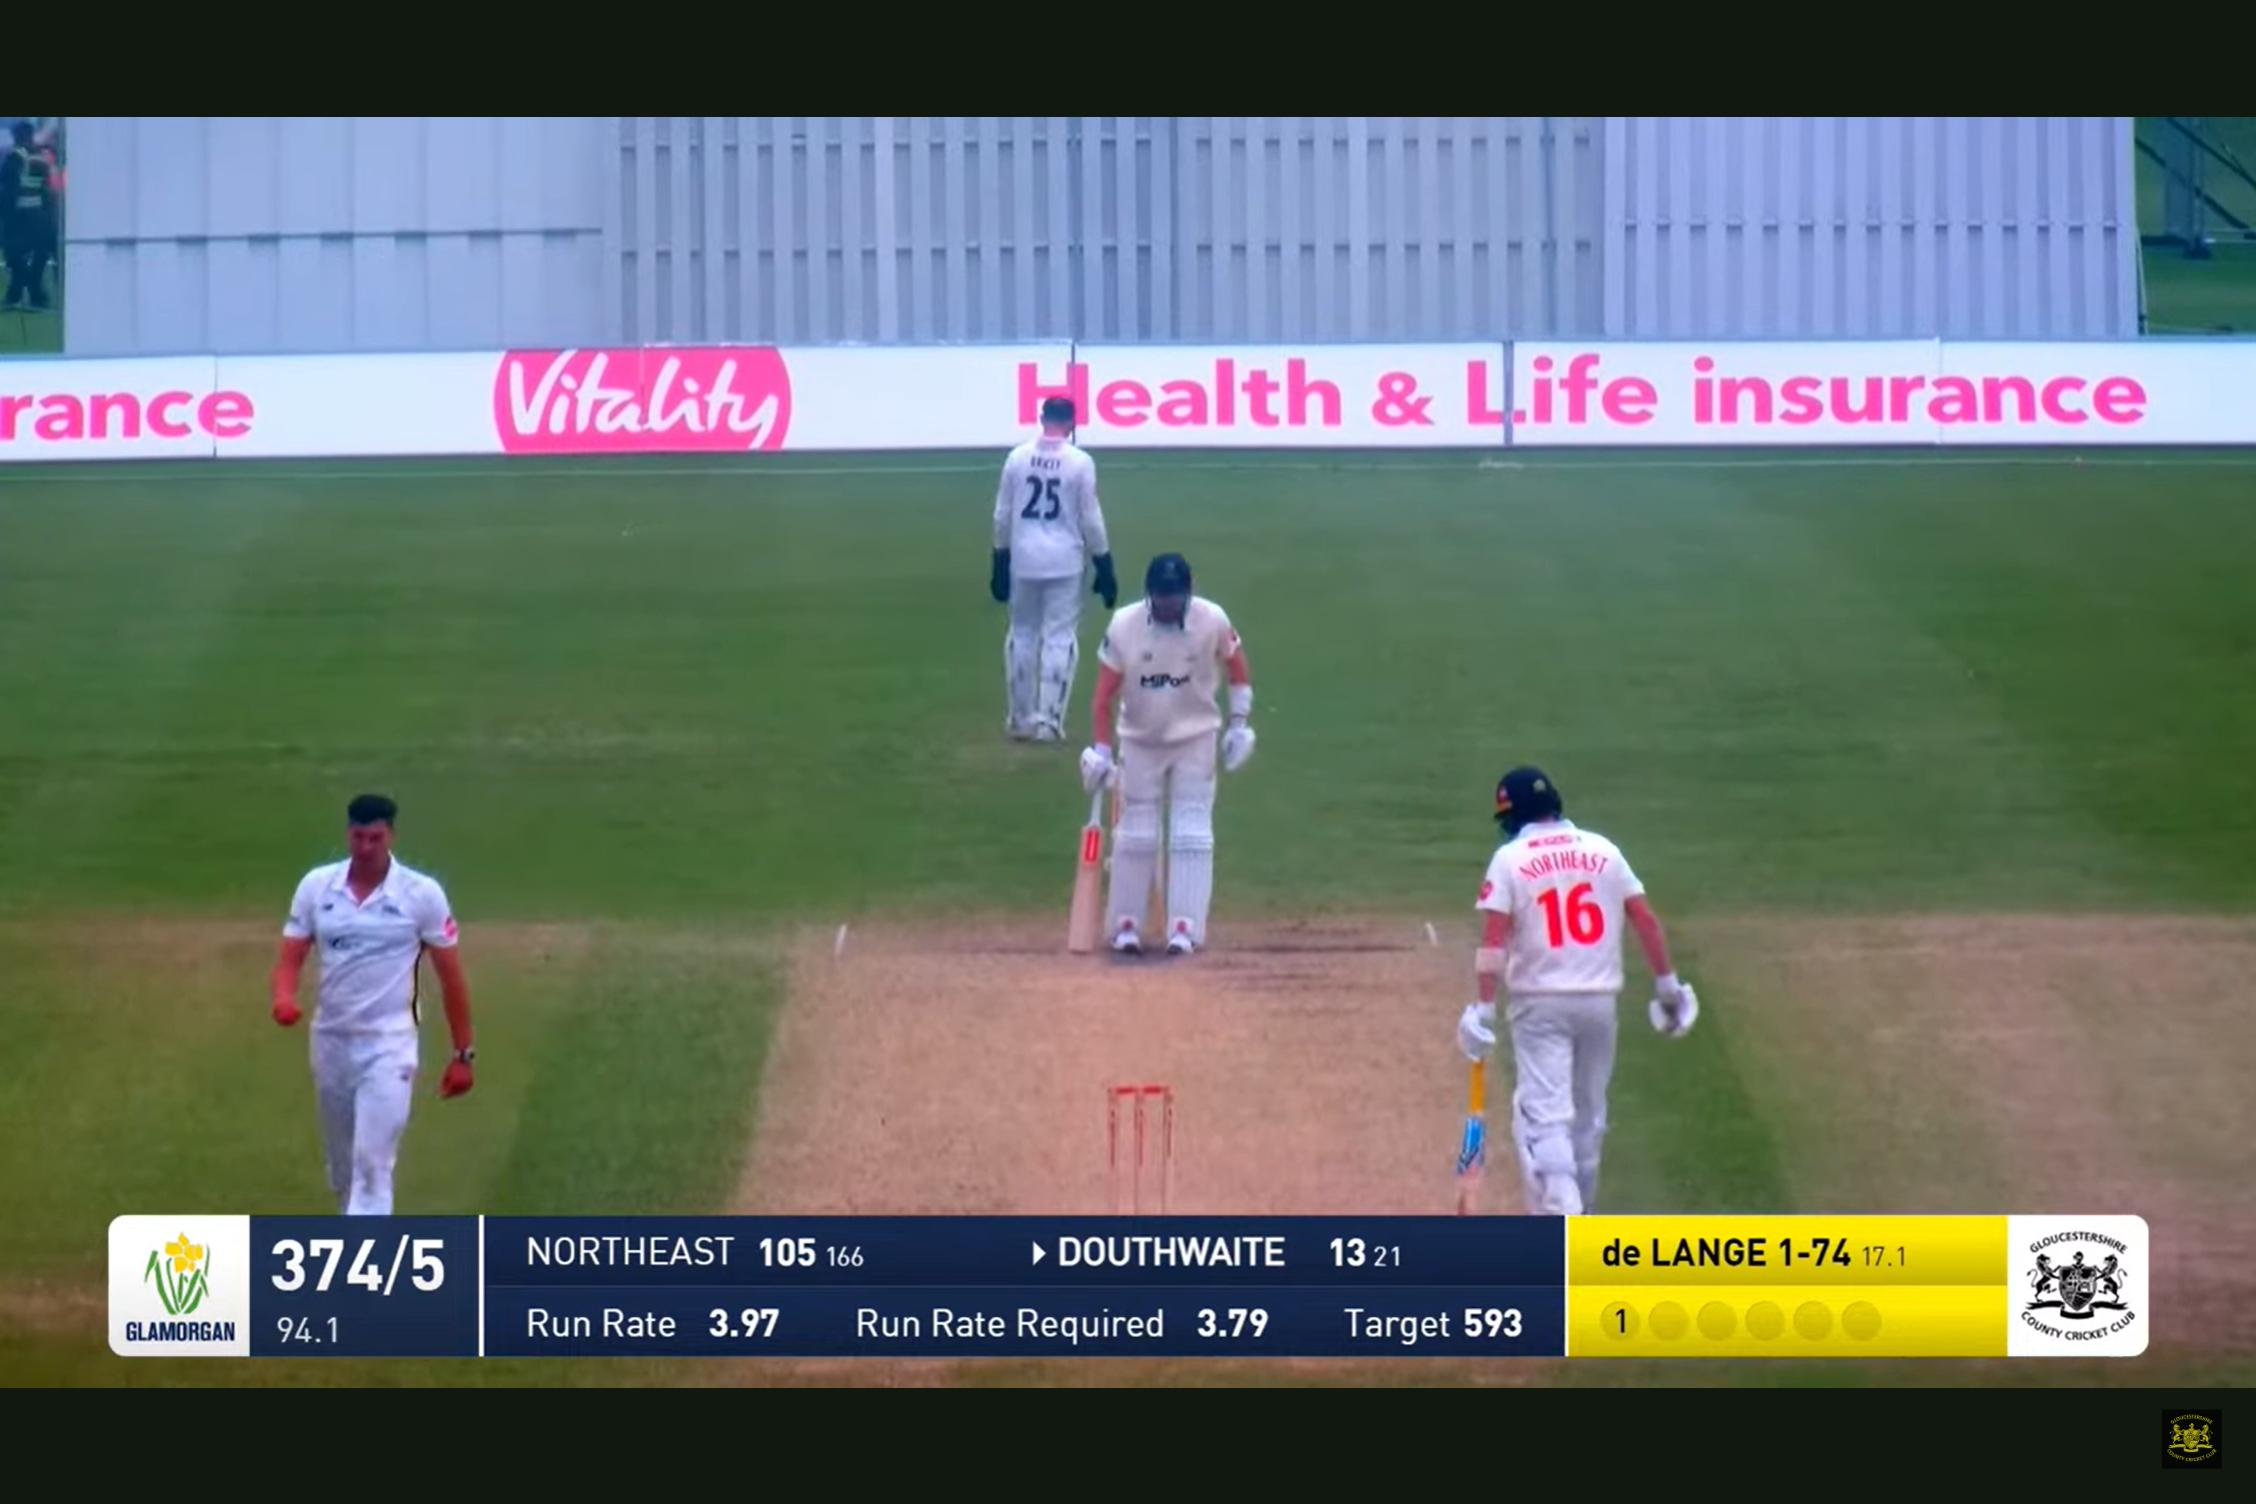batsman: (1046, 539, 1262, 995)
bowler walking back: (232, 759, 492, 1214)
non striker: (1427, 755, 1690, 1219)
